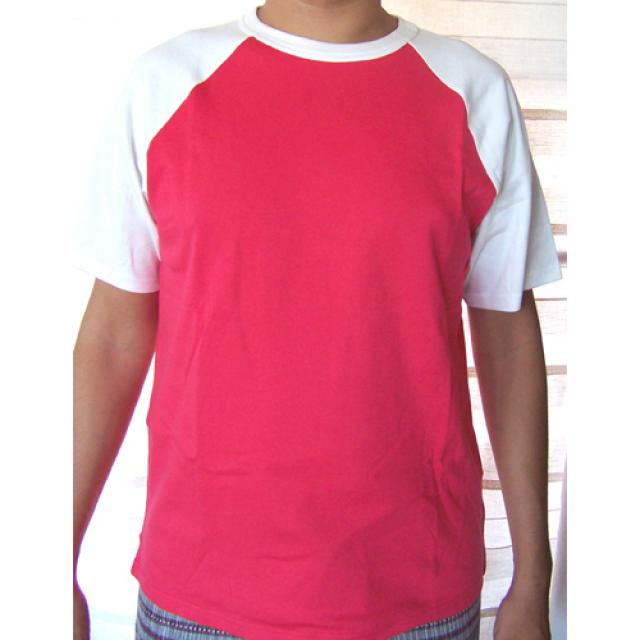T-shirt: (73, 14, 561, 640)
